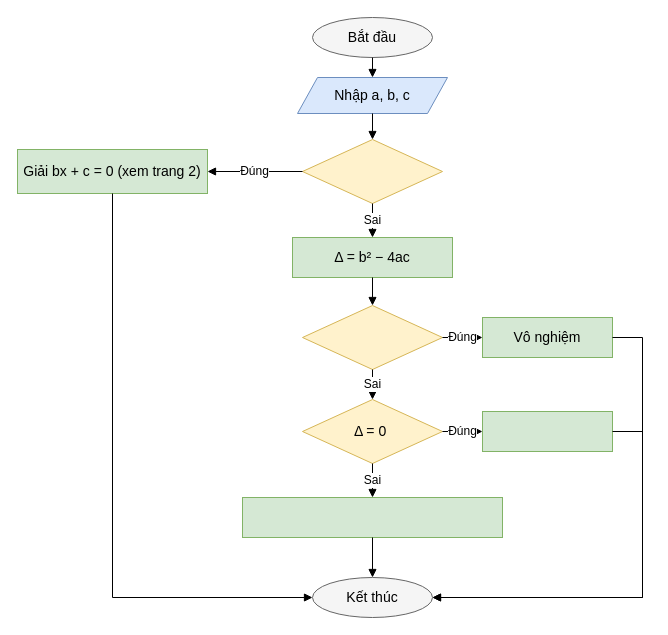
Some shapes in this 668 by 635 pixel diagram are drawn without their labels. Here are the shapes that lost their labels. From the top down, the centre of each, then its label:
At (372,171): "a = 0".
At (372,337): "Δ < 0".
At (547,431): "x = −b/(2a)".
At (372,517): "x₁,₂ = (−b ± √Δ)/(2a)".
